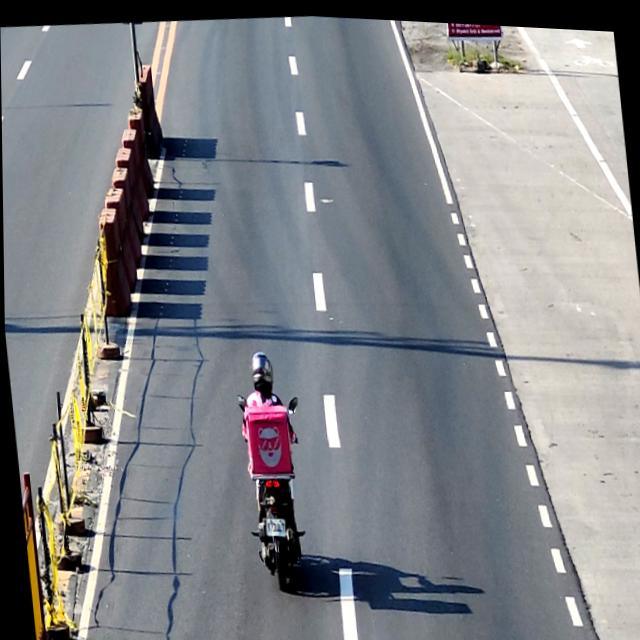License-Plate: (262, 515, 285, 535)
Motorcycle: (235, 385, 316, 590)
